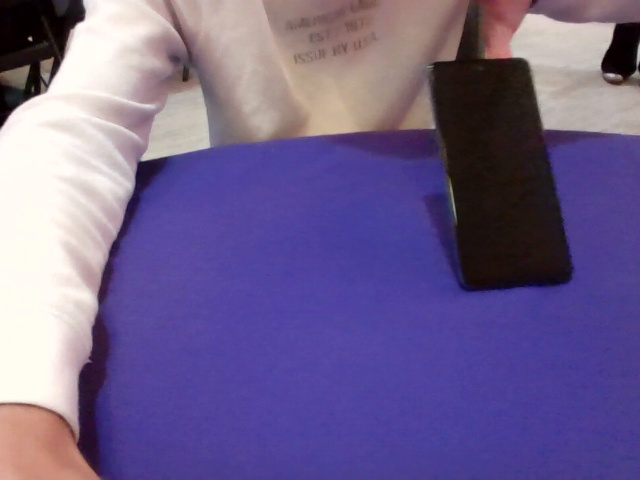celular: (424, 53, 579, 296)
